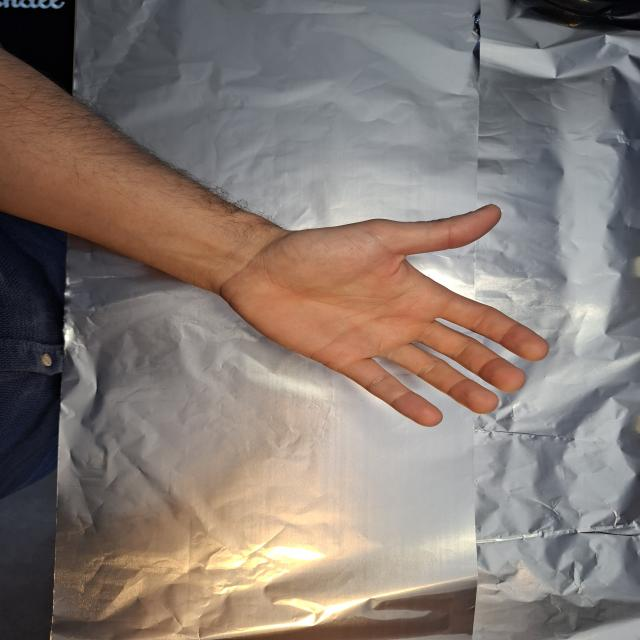glove_off: (216, 201, 554, 429)
